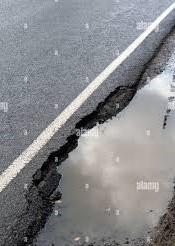pothole: (23, 79, 175, 246)
